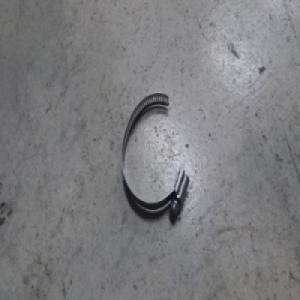AdjustableClamp: (120, 93, 189, 220)
